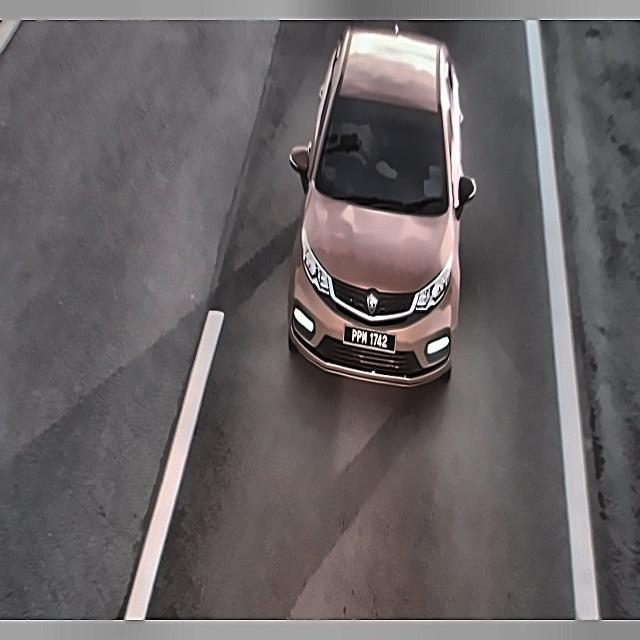car: (341, 319, 399, 364)
